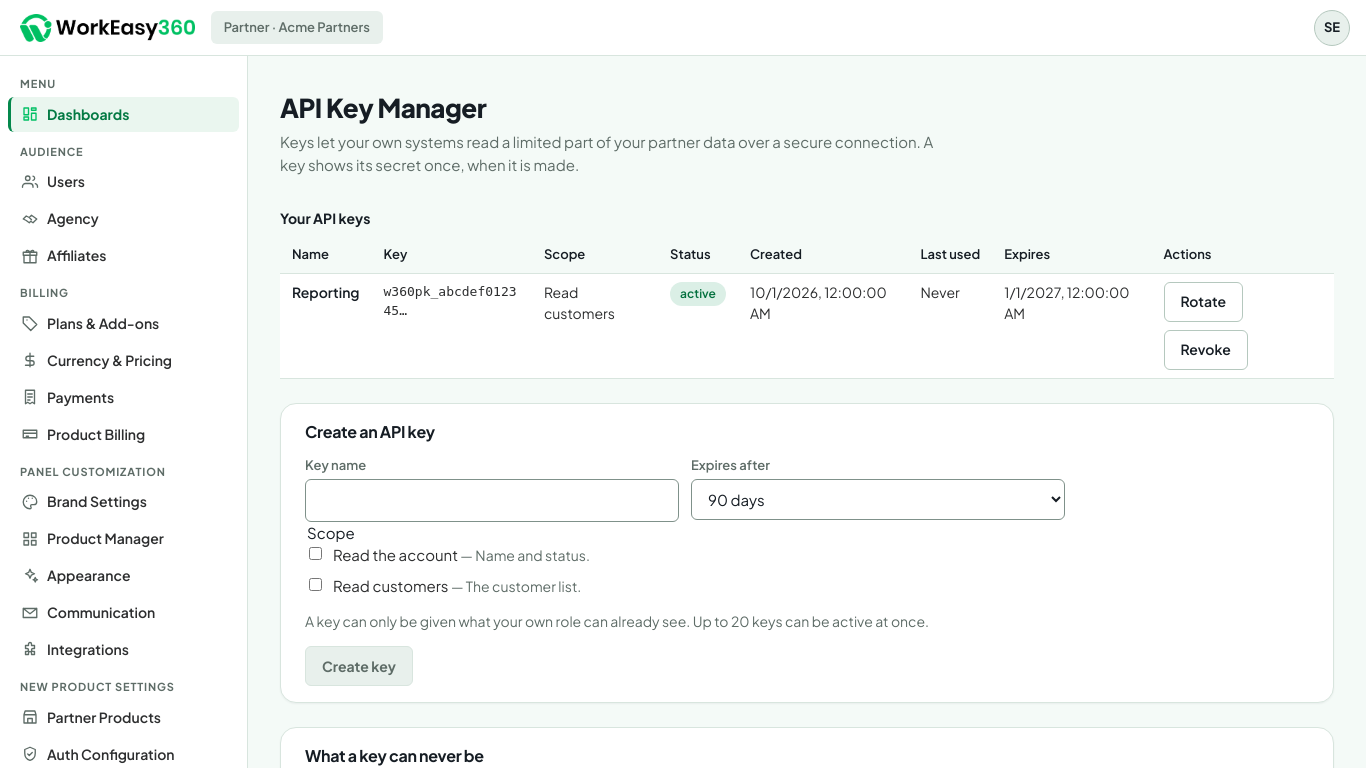
API key manager › creates a key, shows the secret once, and never again after it is dismissed
Check: the table "Your API keys" is shown, box [280,200,1334,378]
Step 1. Type "Sync" into the field labelled "Key name" → {"x": 492, "y": 500}, box [305,479,679,522]
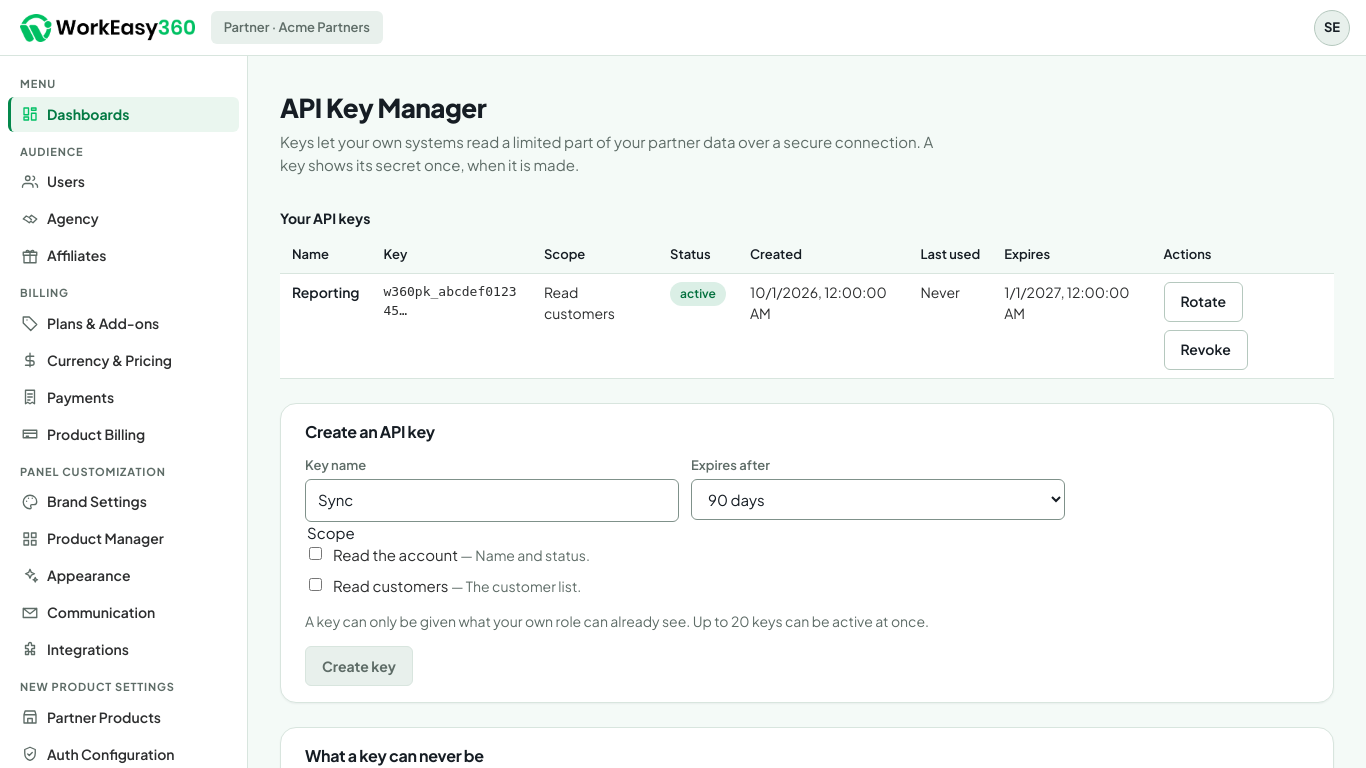
Step 2. Click the checkbox labelled "Read customers — The customer list." → {"x": 316, "y": 584}, box [309,578,322,590]
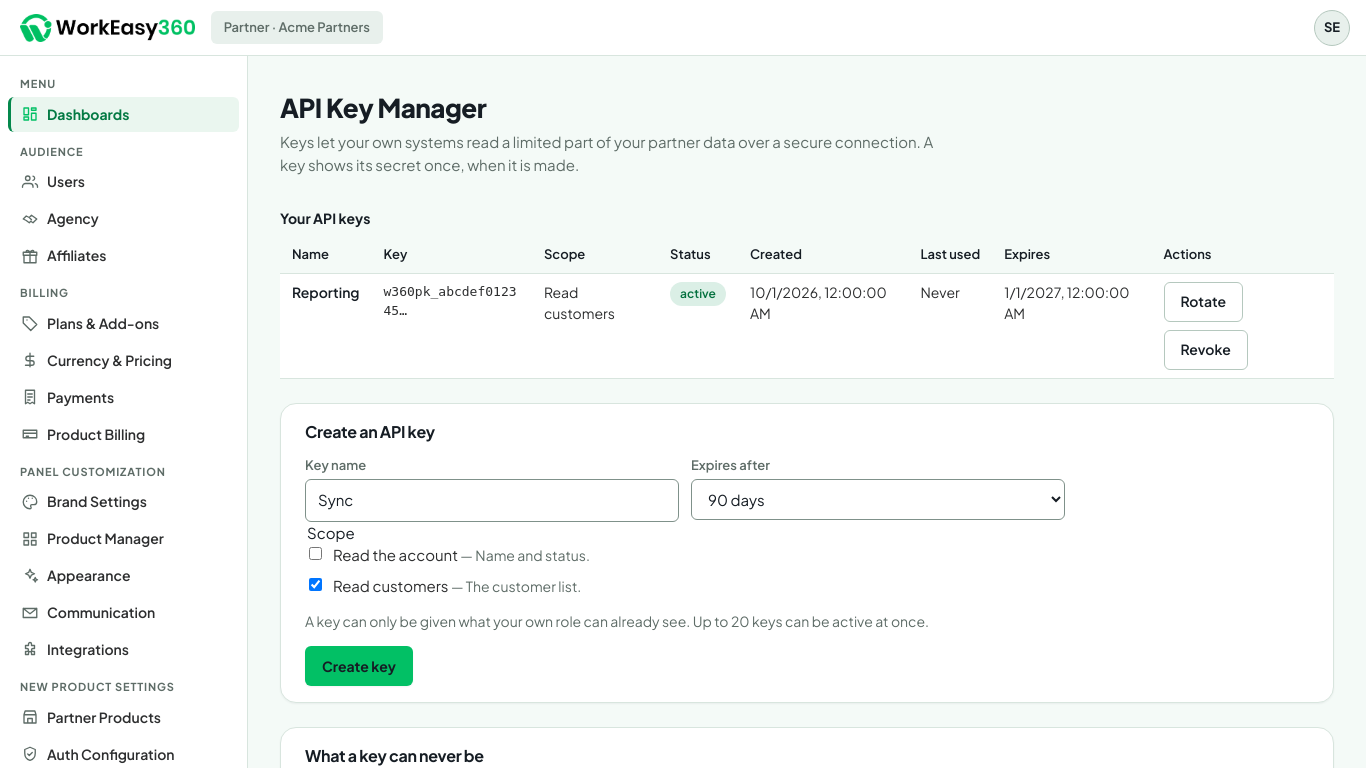
Step 3. Select "30 days" in the dropdown labelled "Expires after" → {"x": 878, "y": 500}, box [691,479,1065,520]
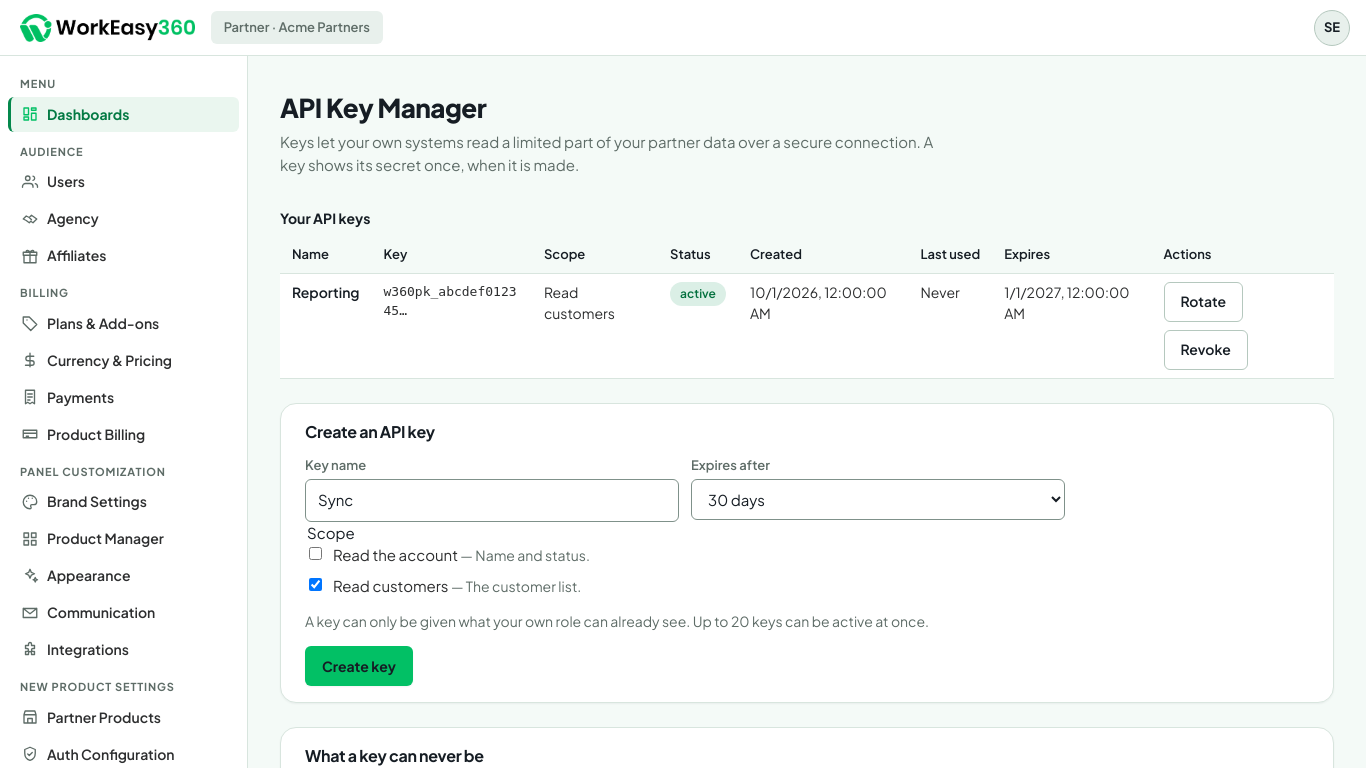
Step 4. Click the button "Create key" → {"x": 359, "y": 666}, box [305,646,413,686]
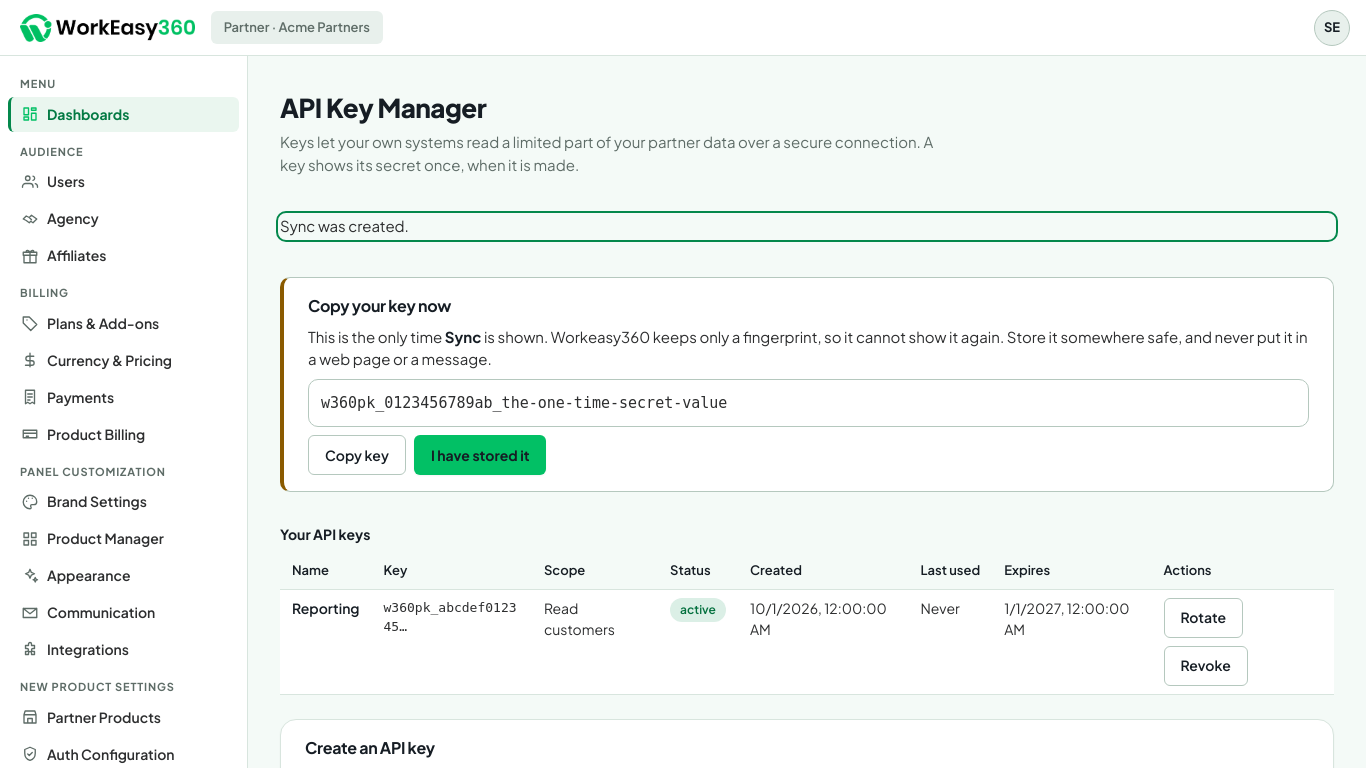
Check: the text with test id "new-secret" reads "w360pk_0123456789ab_the-one-time-secret-value", box [321,394,727,412]
Step 5. Click the button "I have stored it" → {"x": 480, "y": 455}, box [414,435,546,475]
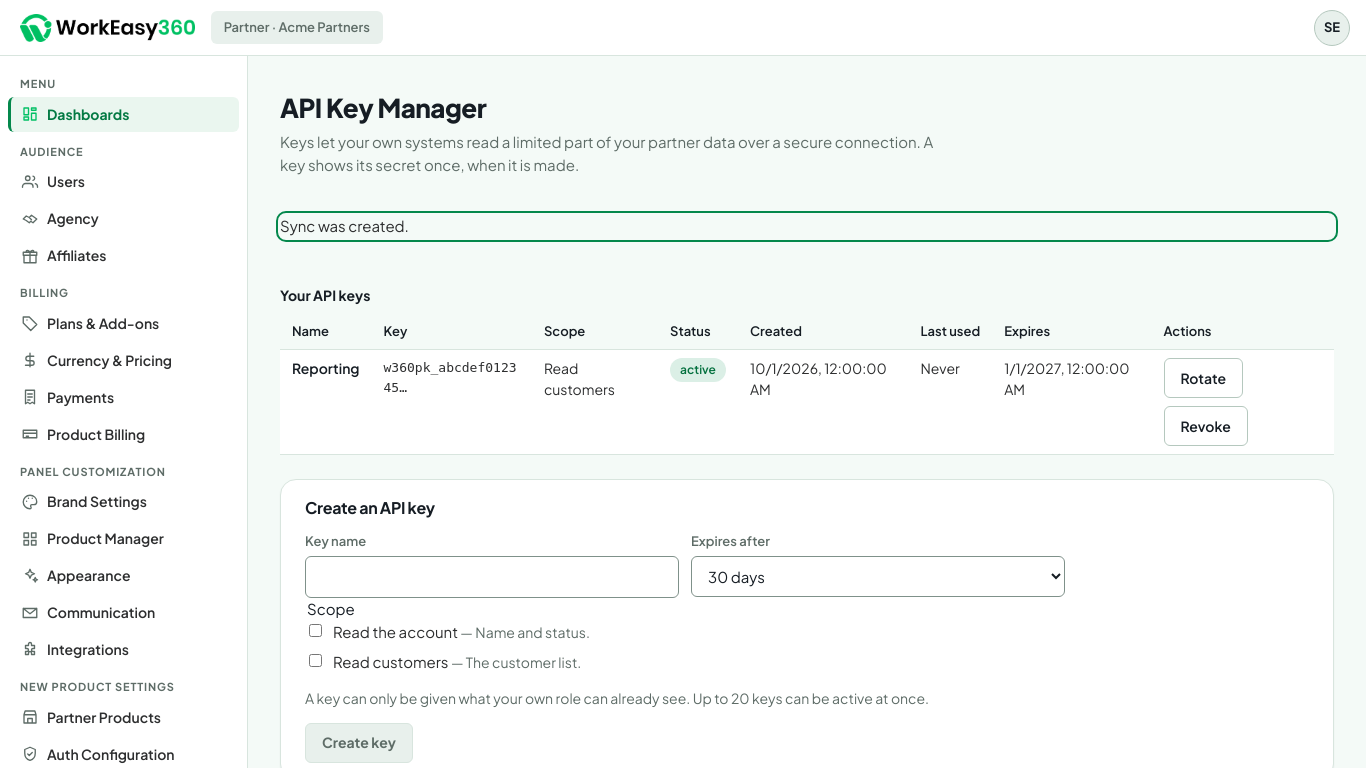
Check: the text with test id "new-secret" is gone
Check: the text "w360pk_0123456789ab_the-one-time-secret-value" is gone
